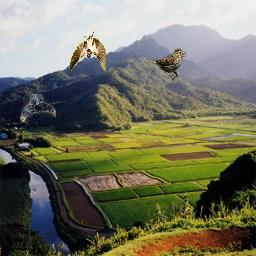Crow: (20, 94, 56, 122)
Sparrow: (147, 48, 186, 82)
Swallow: (69, 31, 106, 71)
